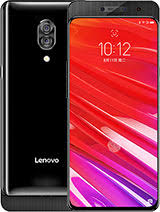lenovo: (1, 1, 160, 212), (67, 1, 160, 210)
